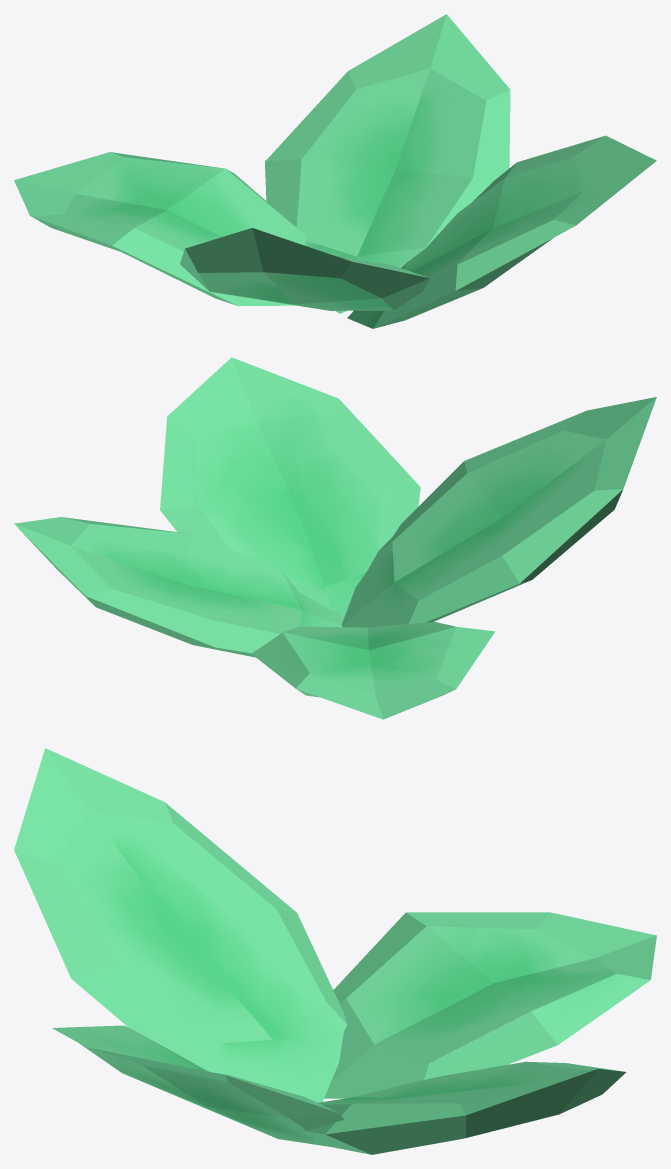
Rendered from MixtureMint.glb.
3 views of the same model, one above another, from view 1: azimuth 30°, elevation 25°; view 2: azimuth 150°, elevation 25°; view 3: azimuth 270°, elevation 25° (orthographic). The views are drawn at different scales.
Parts seen in each view (by area): view 1: Leaf 3, Leaf 2, Leaf 4, Leaf 1; view 2: Leaf 4, Leaf 1, Leaf 3, Leaf 2; view 3: Leaf 1, Leaf 2, Leaf 3, Leaf 4.
Part boxes in pixels (<box>): Leaf 3: <box>265,14,510,313</box>; Leaf 2: <box>14,152,305,306</box>; Leaf 4: <box>347,135,656,328</box>; Leaf 1: <box>180,228,429,310</box>; Leaf 4: <box>160,357,420,617</box>; Leaf 1: <box>341,397,656,627</box>; Leaf 3: <box>14,517,343,657</box>; Leaf 2: <box>251,621,495,719</box>; Leaf 1: <box>14,748,346,1102</box>; Leaf 2: <box>324,912,656,1098</box>; Leaf 3: <box>301,1061,626,1154</box>; Leaf 4: <box>52,1025,344,1146</box>.
Size of the model in its own units: 2.66 by 1.27 by 2.78.
4 materials, 4 textured.
